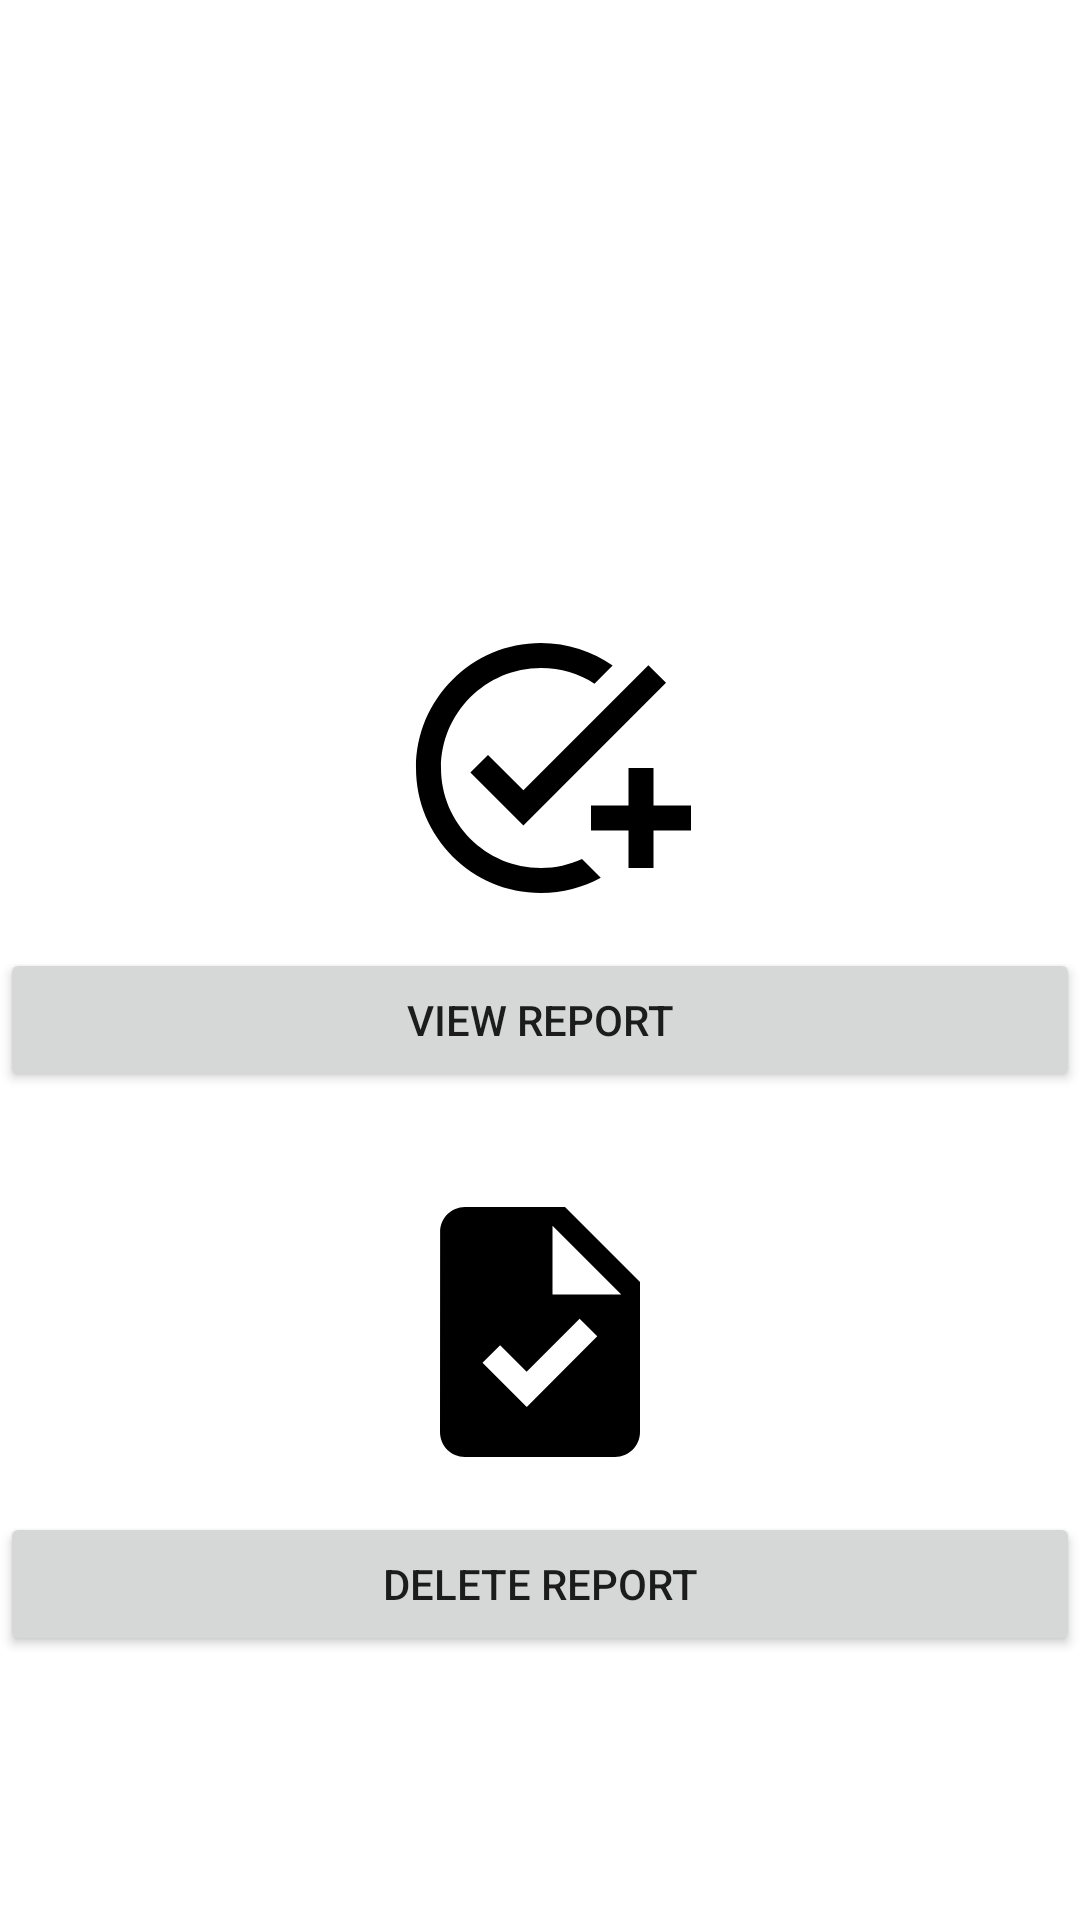

Icons on this 1080px×1920px Android screen, each with the point to tap as (x=x, y=y):
add task: (x=553, y=768)
task: (x=540, y=1332)
